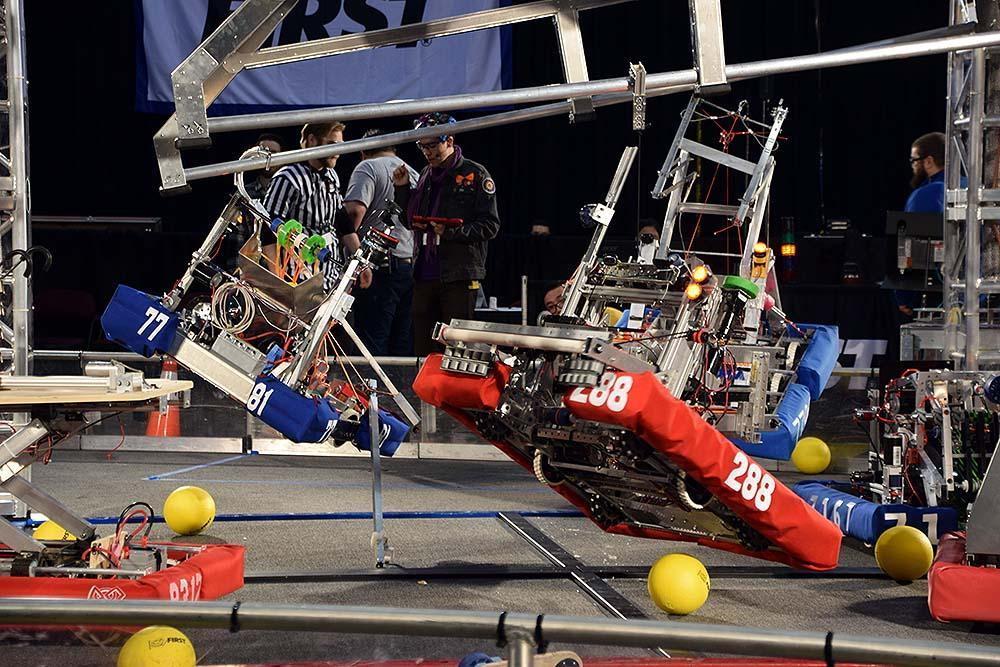robot: (407, 53, 846, 593), (96, 126, 428, 475), (644, 64, 846, 462), (0, 366, 252, 644), (791, 302, 1000, 547), (922, 345, 1000, 633)
